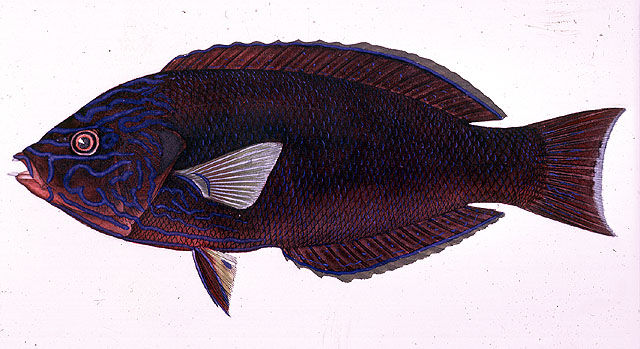fish: (11, 39, 622, 316)
